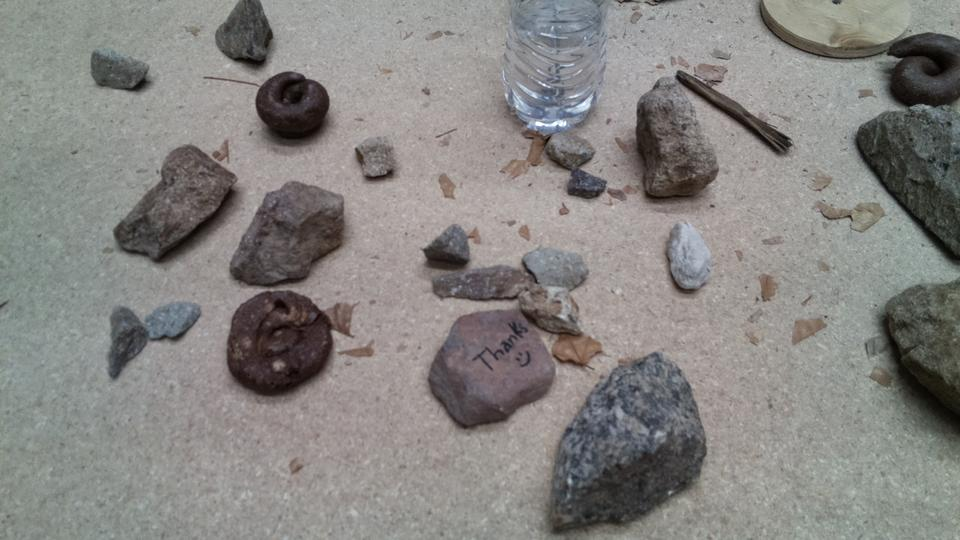poop: (226, 287, 332, 397), (254, 68, 333, 143), (886, 30, 960, 105)
